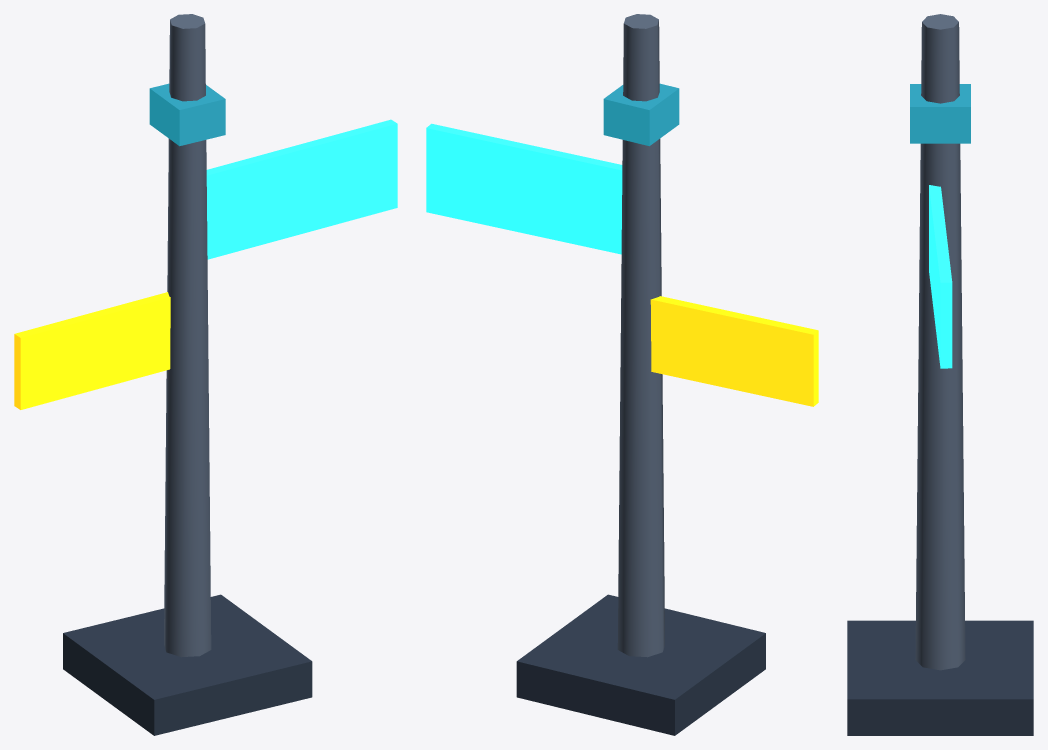
File: holo_signpost.glb
The picture shows the model from 3 angles, left to right: view 1: azimuth 30°, elevation 25°; view 2: azimuth 150°, elevation 25°; view 3: azimuth 270°, elevation 25°; orthographic projection.
Visible parts, largest first — view 1: holo_signpost_pole, holo_signpost_base, holo_signpost_public_route, holo_signpost_district_notice, holo_signpost_projector; view 2: holo_signpost_pole, holo_signpost_base, holo_signpost_public_route, holo_signpost_district_notice, holo_signpost_projector; view 3: holo_signpost_pole, holo_signpost_base, holo_signpost_public_route, holo_signpost_projector.
Part boxes in pixels (x1,y1,x2,y2): holo_signpost_pole: [164, 14, 211, 657]; holo_signpost_base: [63, 594, 312, 735]; holo_signpost_public_route: [206, 119, 397, 259]; holo_signpost_district_notice: [14, 292, 170, 409]; holo_signpost_projector: [149, 83, 225, 146]; holo_signpost_pole: [617, 14, 664, 657]; holo_signpost_base: [516, 594, 765, 735]; holo_signpost_public_route: [426, 123, 622, 254]; holo_signpost_district_notice: [650, 296, 818, 406]; holo_signpost_projector: [603, 83, 679, 146]; holo_signpost_pole: [915, 14, 965, 670]; holo_signpost_base: [847, 620, 1033, 735]; holo_signpost_public_route: [929, 185, 952, 368]; holo_signpost_projector: [910, 84, 970, 143].
Size of the model in its own units: 1.33 by 2.2 by 0.55.
